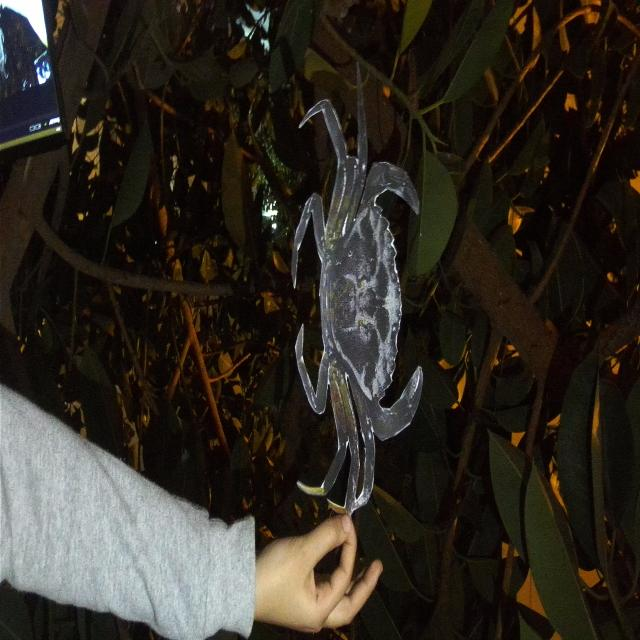European_Green_Crab: (287, 91, 428, 520)
